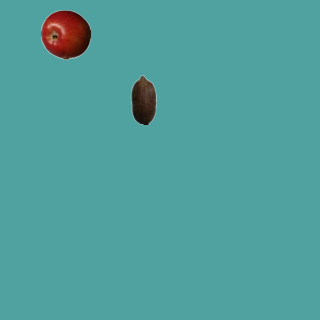Apple Braeburn: (40, 9, 90, 59)
Nut Pecan: (118, 74, 168, 124)
